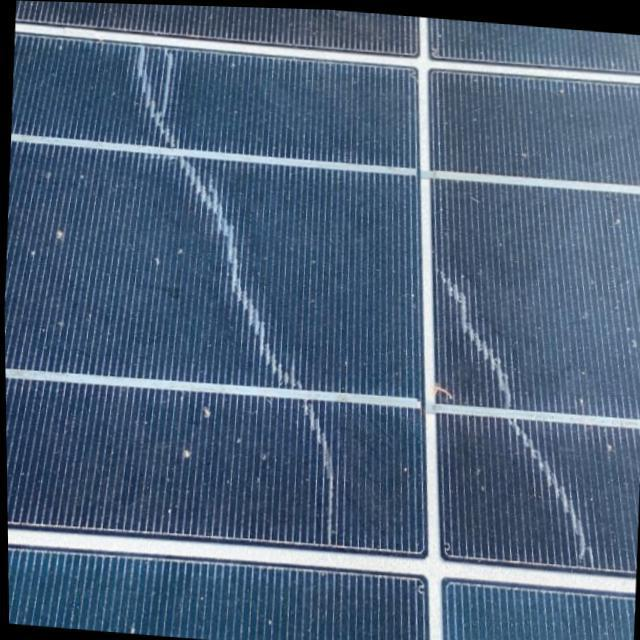Anomaly Solar Panel: (4, 0, 640, 640)
Structural Damage: (120, 32, 340, 494), (505, 406, 594, 566), (428, 258, 520, 406)
